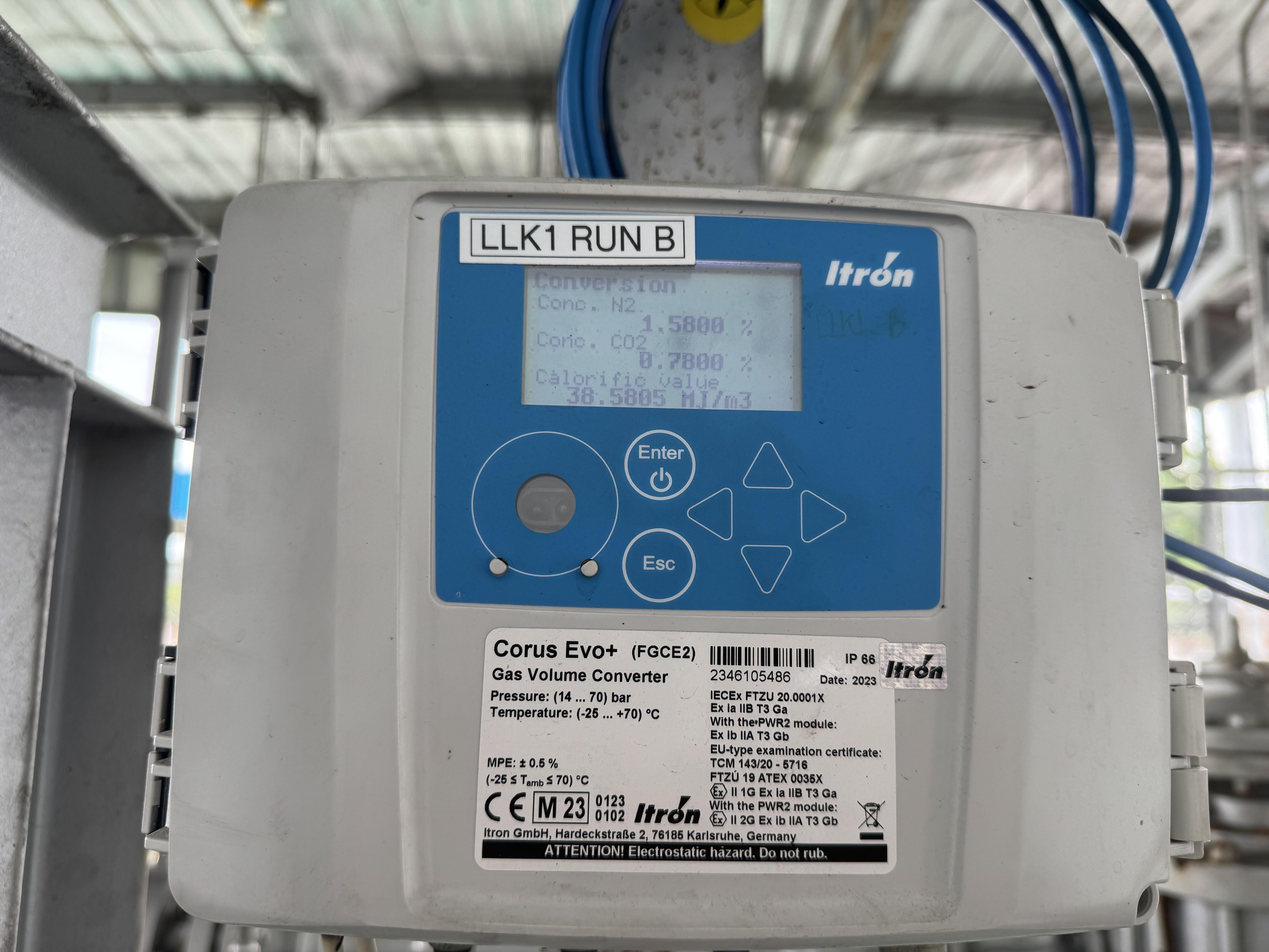digital_screen: (520, 255, 806, 411)
